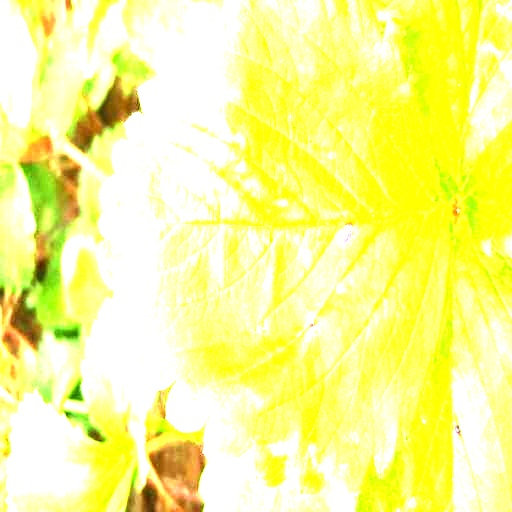Leaf Spot: (97, 0, 451, 501), (347, 208, 511, 511), (368, 0, 511, 258), (79, 290, 162, 492)
